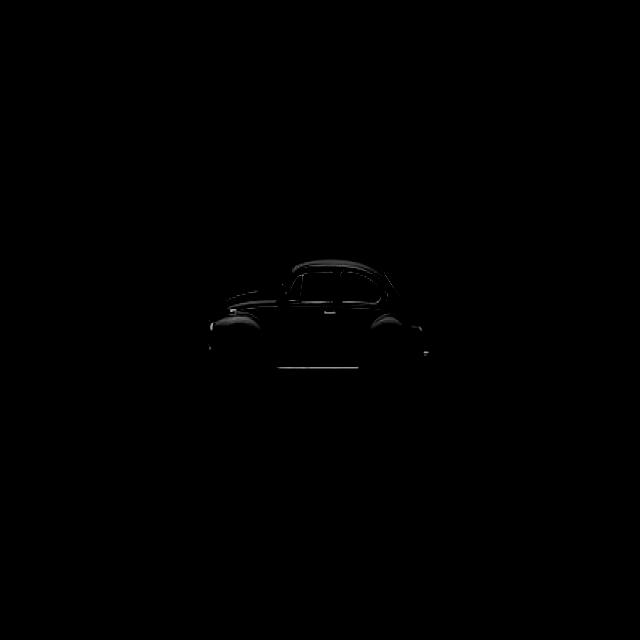car: (205, 255, 440, 391)
